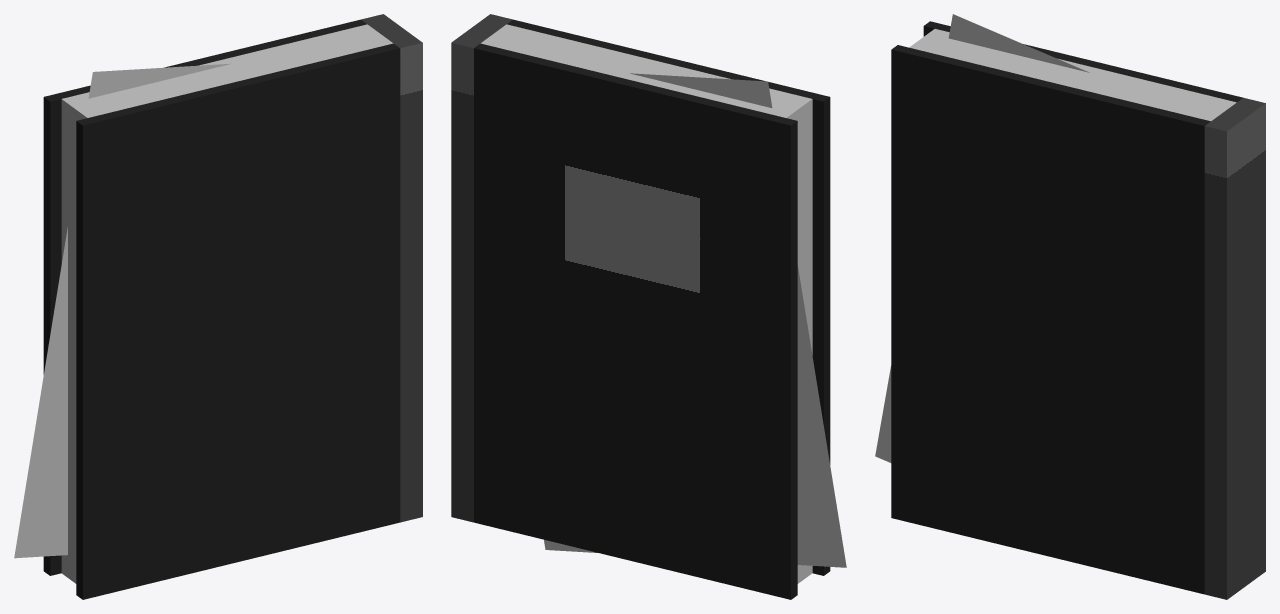
File: Journal.gltf
The picture shows the model from 3 angles, left to right: view 1: azimuth 30°, elevation 25°; view 2: azimuth 150°, elevation 25°; view 3: azimuth 330°, elevation 25°; orthographic projection.
Parts seen in each view (by area): view 1: Back_Cover, Pages, Spine, Loose_page, Front_Cover; view 2: Front_Cover, Spine, Loose_page, Pages, Back_Cover; view 3: Back_Cover, Spine, Pages, Loose_page, Front_Cover.
Part boxes in pixels (x1,y1,x2,y2): Back_Cover: (76,43,400,599); Pages: (61,24,393,583); Spine: (361,14,422,522); Loose_page: (14,63,231,558); Front_Cover: (43,19,366,575); Front_Cover: (474,43,797,599); Spine: (451,14,512,522); Loose_page: (544,73,846,567); Pages: (480,24,812,583); Back_Cover: (507,19,830,575); Back_Cover: (891,45,1210,594); Spine: (1204,97,1265,599); Pages: (909,29,1236,121); Loose_page: (875,14,1089,462); Front_Cover: (923,21,1242,102).
Size of the model in its own units: 0.5275 by 0.6888 by 0.0938.
1 material, 1 textured.
